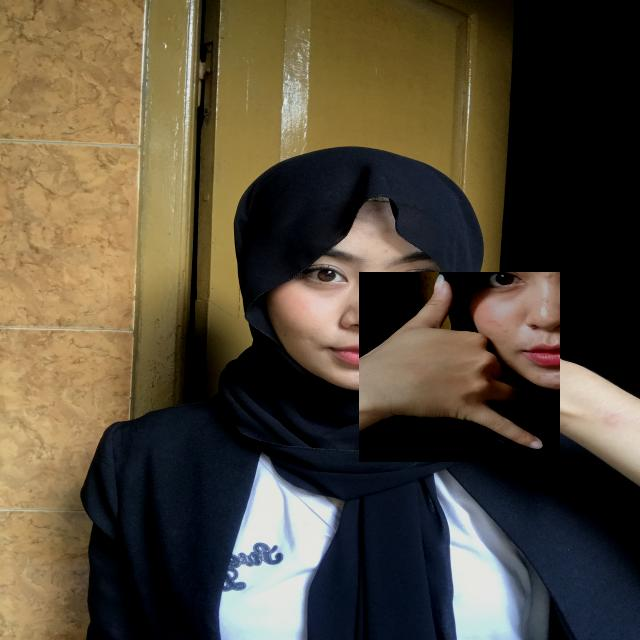telpon: (359, 272, 560, 462)
